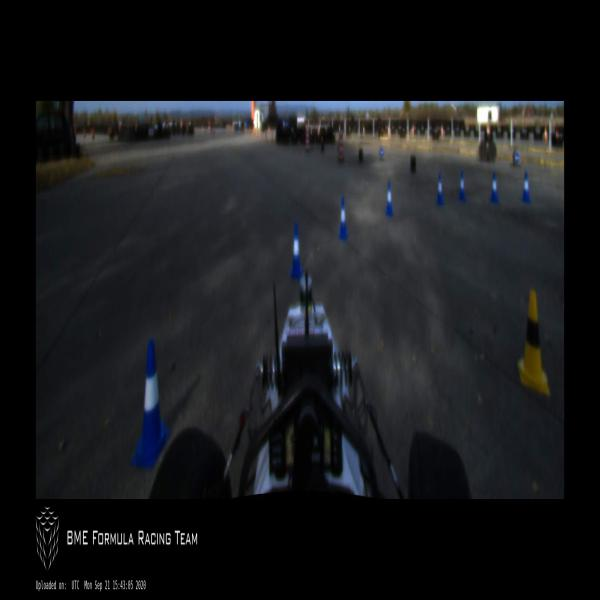blue_cone: (131, 341, 170, 471), (290, 223, 303, 280), (337, 198, 348, 240), (384, 182, 393, 216), (435, 172, 444, 206), (522, 170, 530, 202), (490, 173, 498, 204), (458, 172, 466, 200)
yellow_cone: (516, 293, 549, 394)
